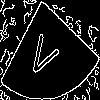V: (25, 25, 63, 82)
